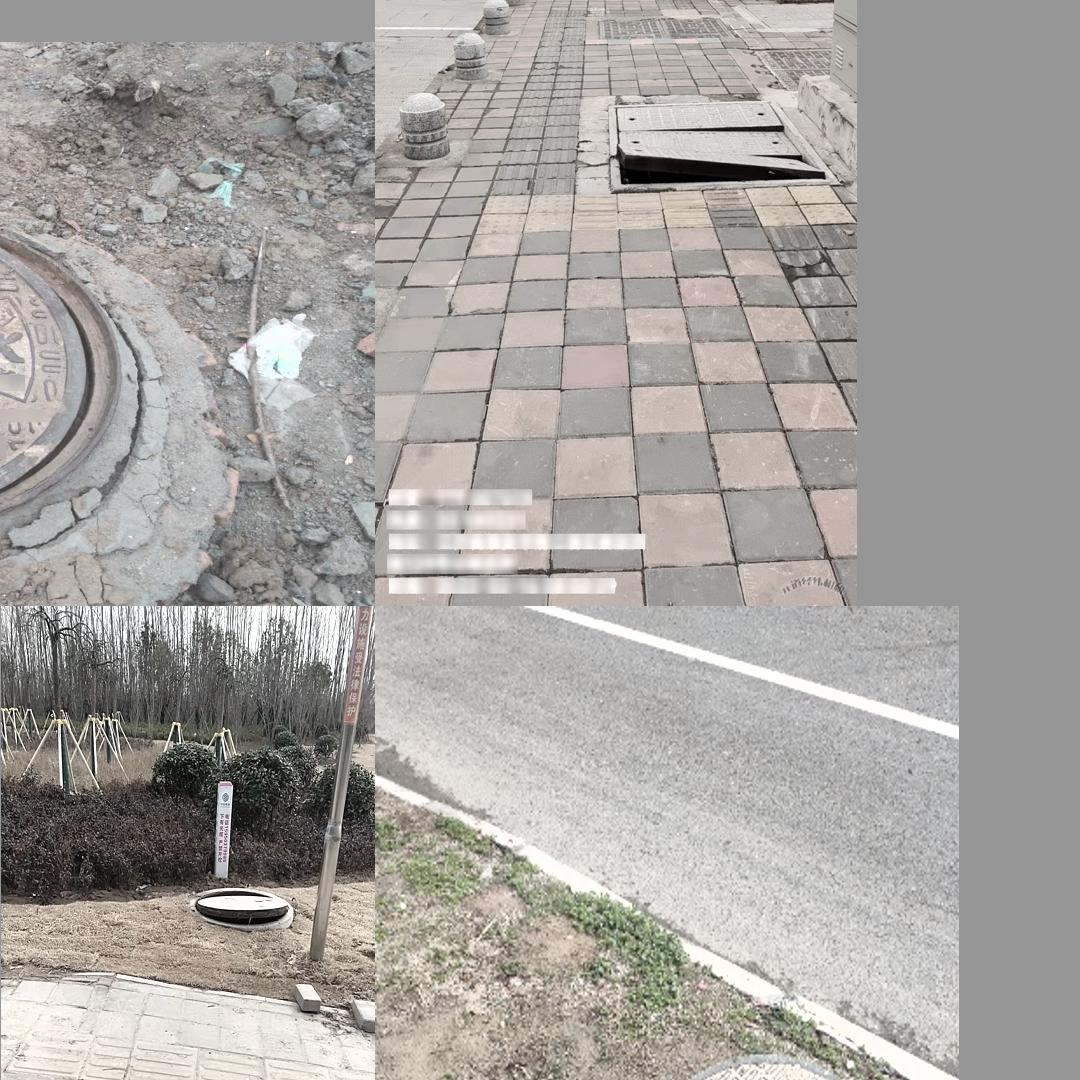good: (592, 12, 743, 46)
uncovered: (0, 203, 120, 593), (607, 93, 844, 191), (562, 1050, 913, 1080), (189, 882, 294, 934)
